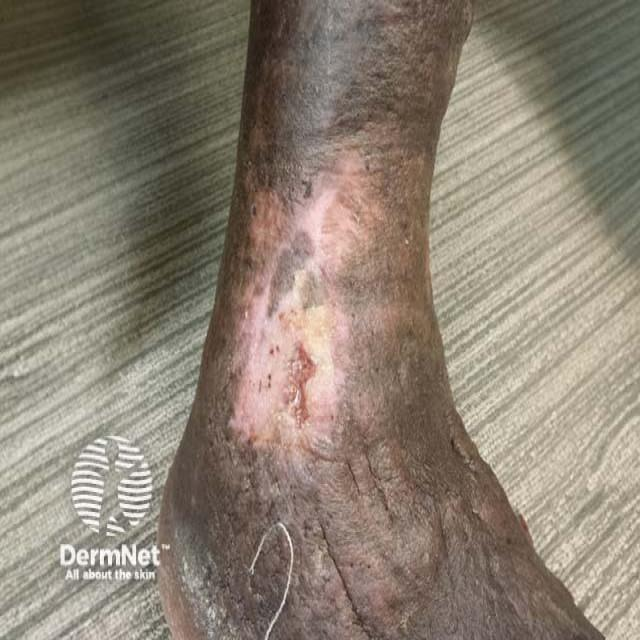Eczema: (221, 160, 378, 487)
